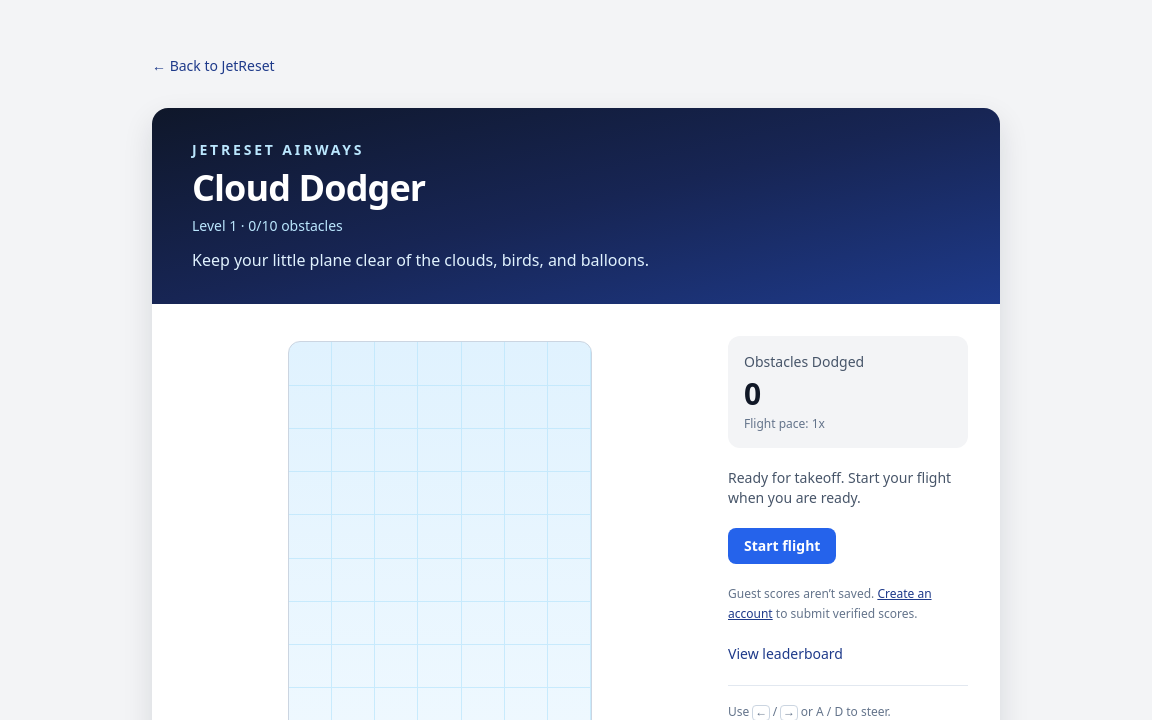
Scenario: PlaneGame › celebrates clearing level 1 and launches the spaceship into level 2
Step 1. Click the button "Start flight" → (782, 546), box left=728, top=528, right=836, bottom=564
Wait 21000 ms
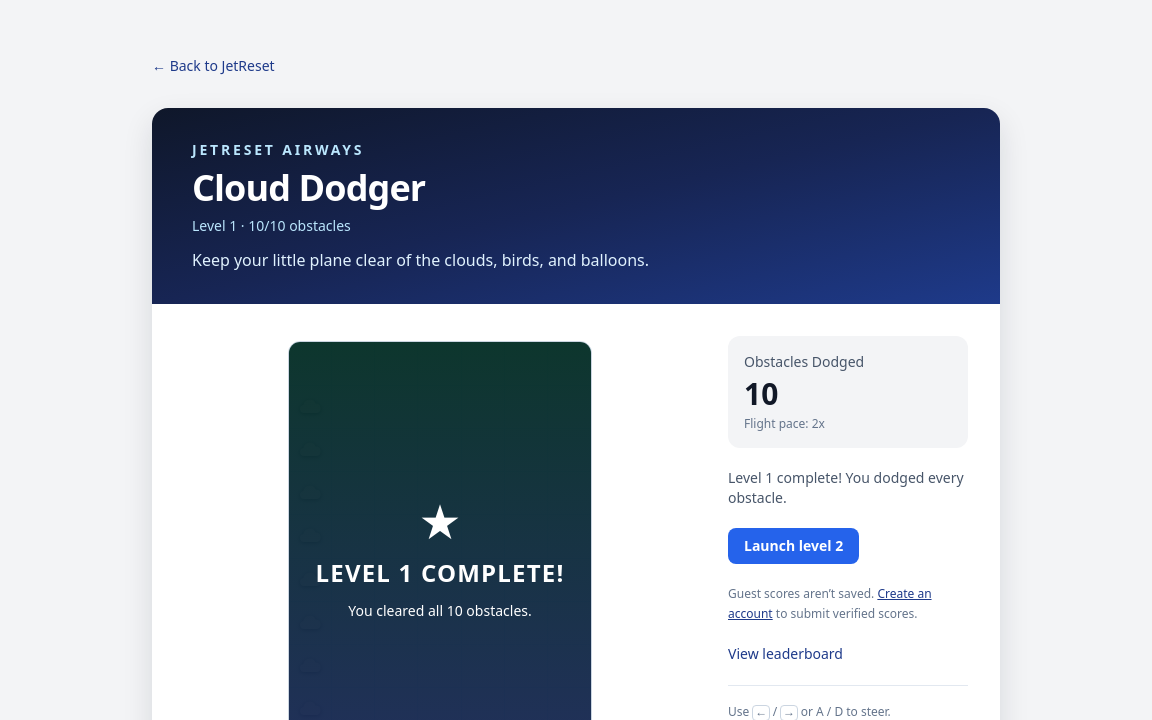
Now the message shows "Level 1 complete", box left=728, top=468, right=964, bottom=507
Now the text "10" is shown, box left=744, top=373, right=778, bottom=414
Step 2. Click the button "Launch level 2" → (794, 546), box left=728, top=528, right=859, bottom=564
Wait 5600 ms
(page scrolled)
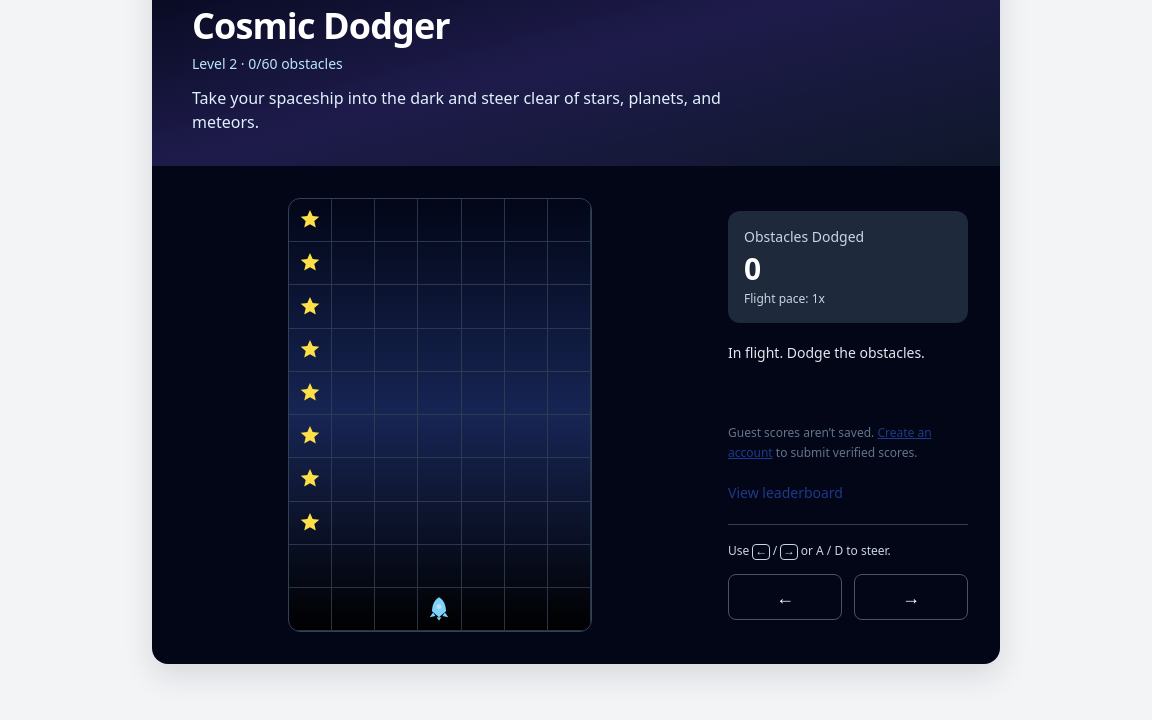
Now the heading "Cosmic Dodger" is shown, box left=192, top=1, right=450, bottom=50
Now the text "Flight pace: 1x" is shown, box left=744, top=290, right=825, bottom=307
